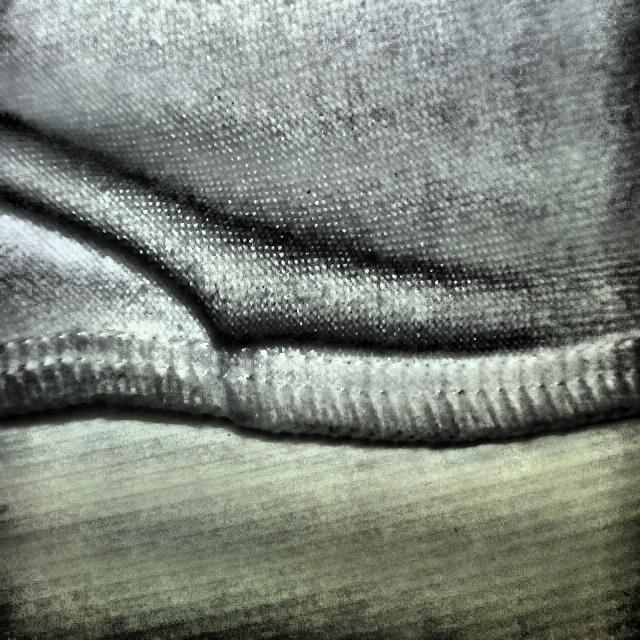gray stitch: (131, 216, 375, 441)
